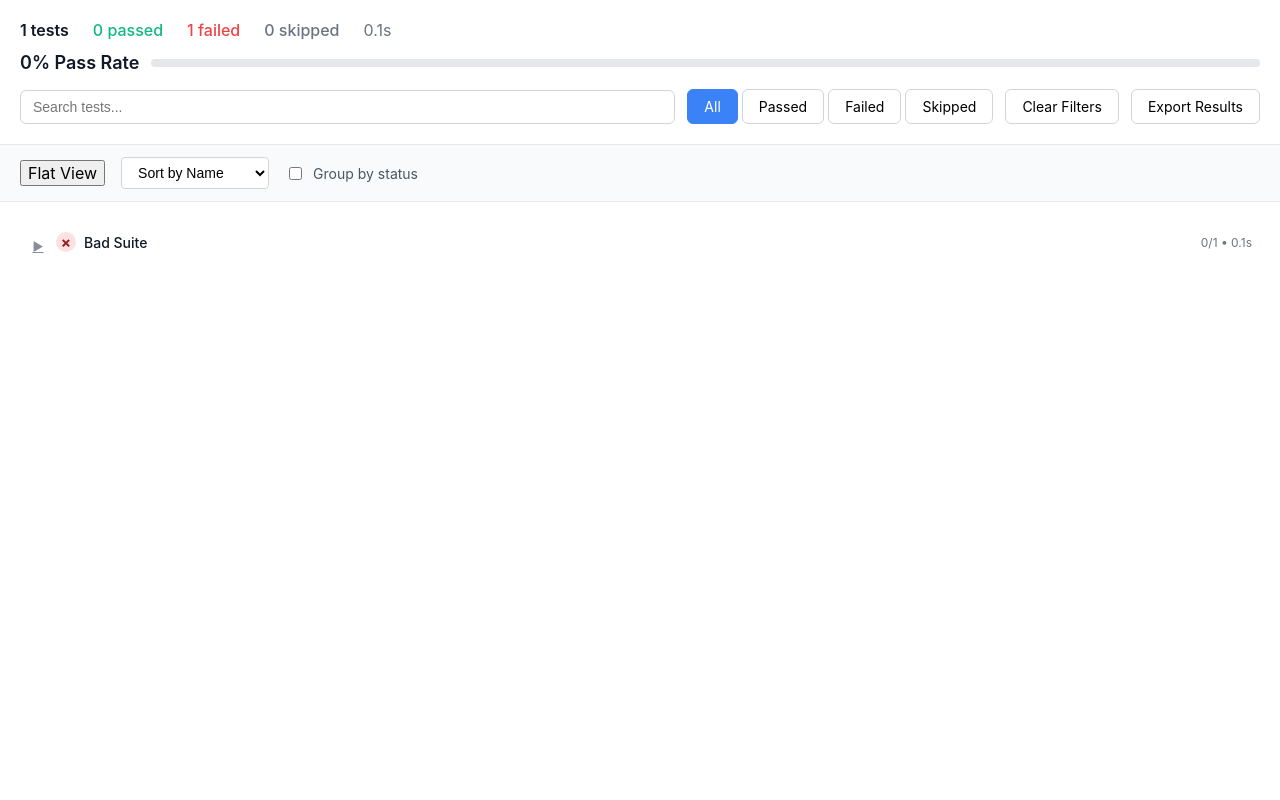
Test case: TestResultsView › Error Handling › handles malformed error data
This screenshot has width=1280, height=800.
Click the button with test id "expand-bad" at (38, 246), box [28,236,48,256]
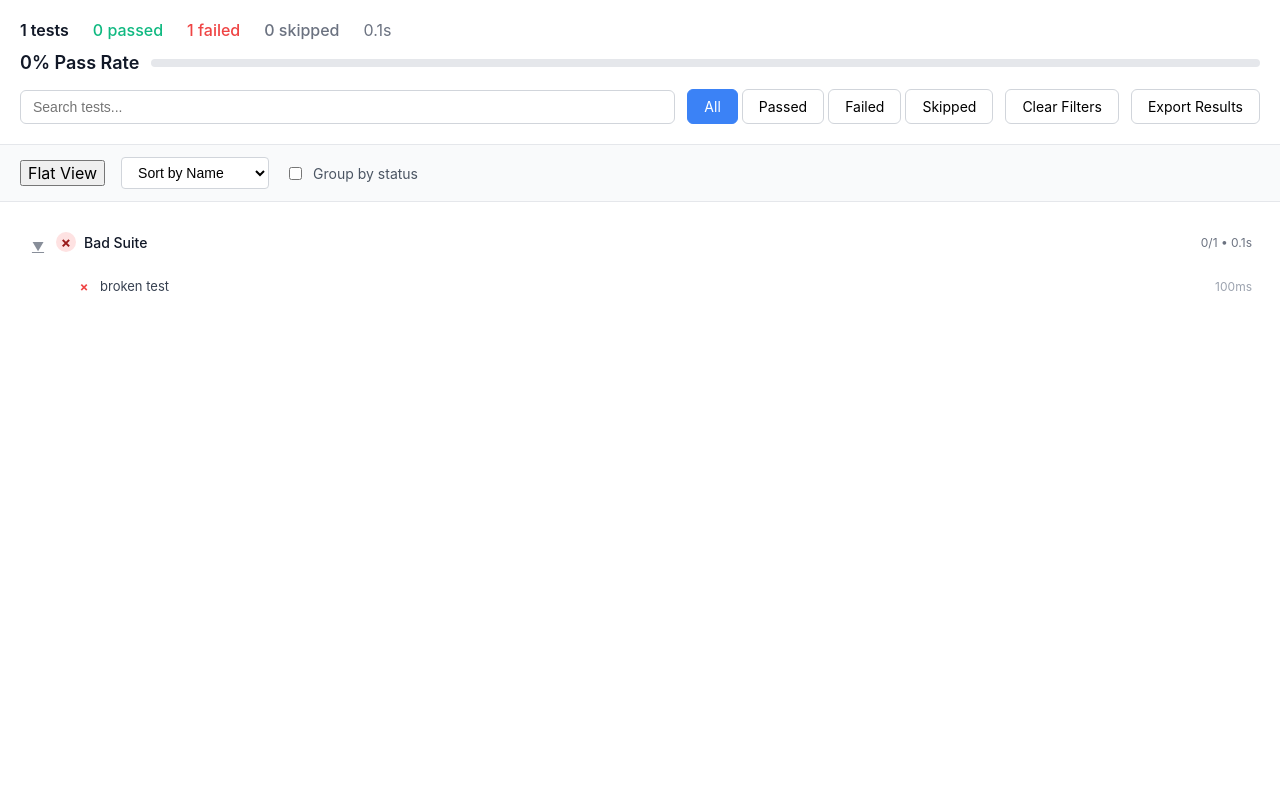
Click the text "broken test" at (134, 286), box [100,278,169,294]
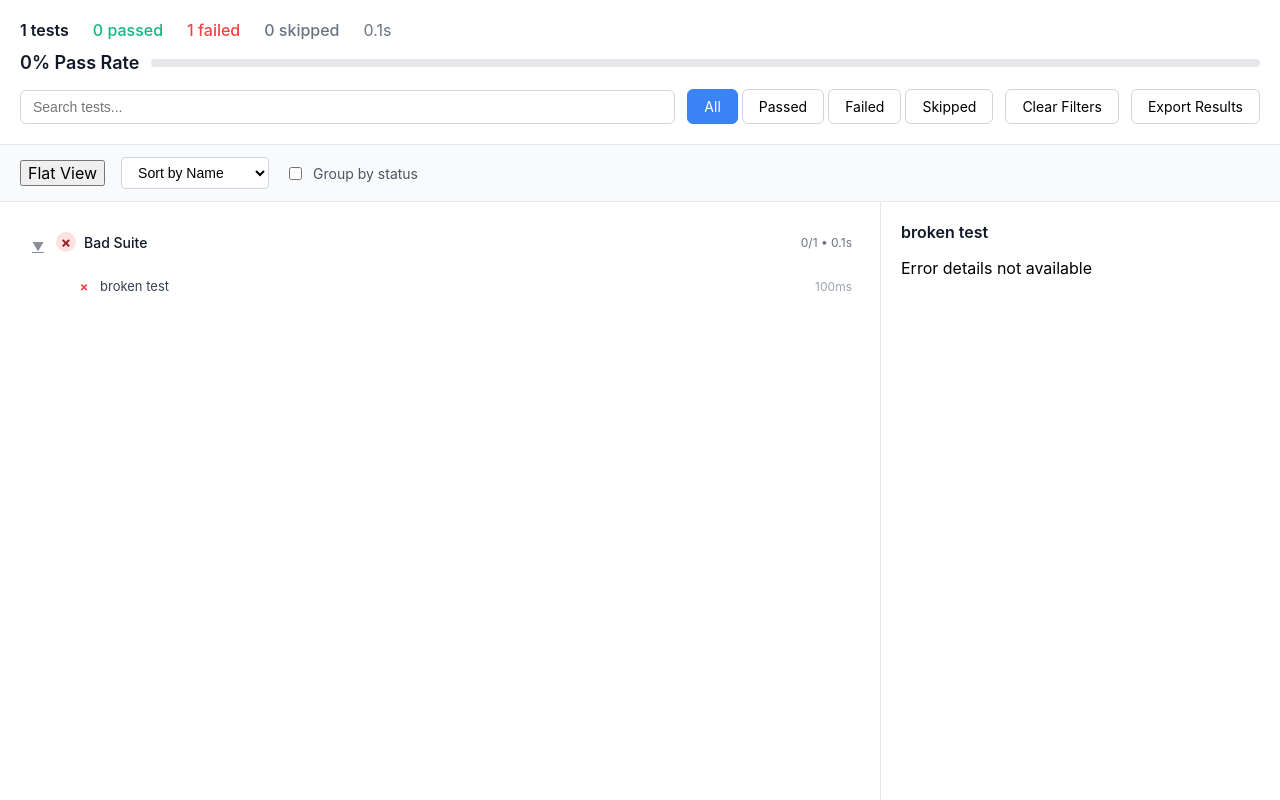
Result: the text "Error details not available" is shown at [901,258,1092,278]
